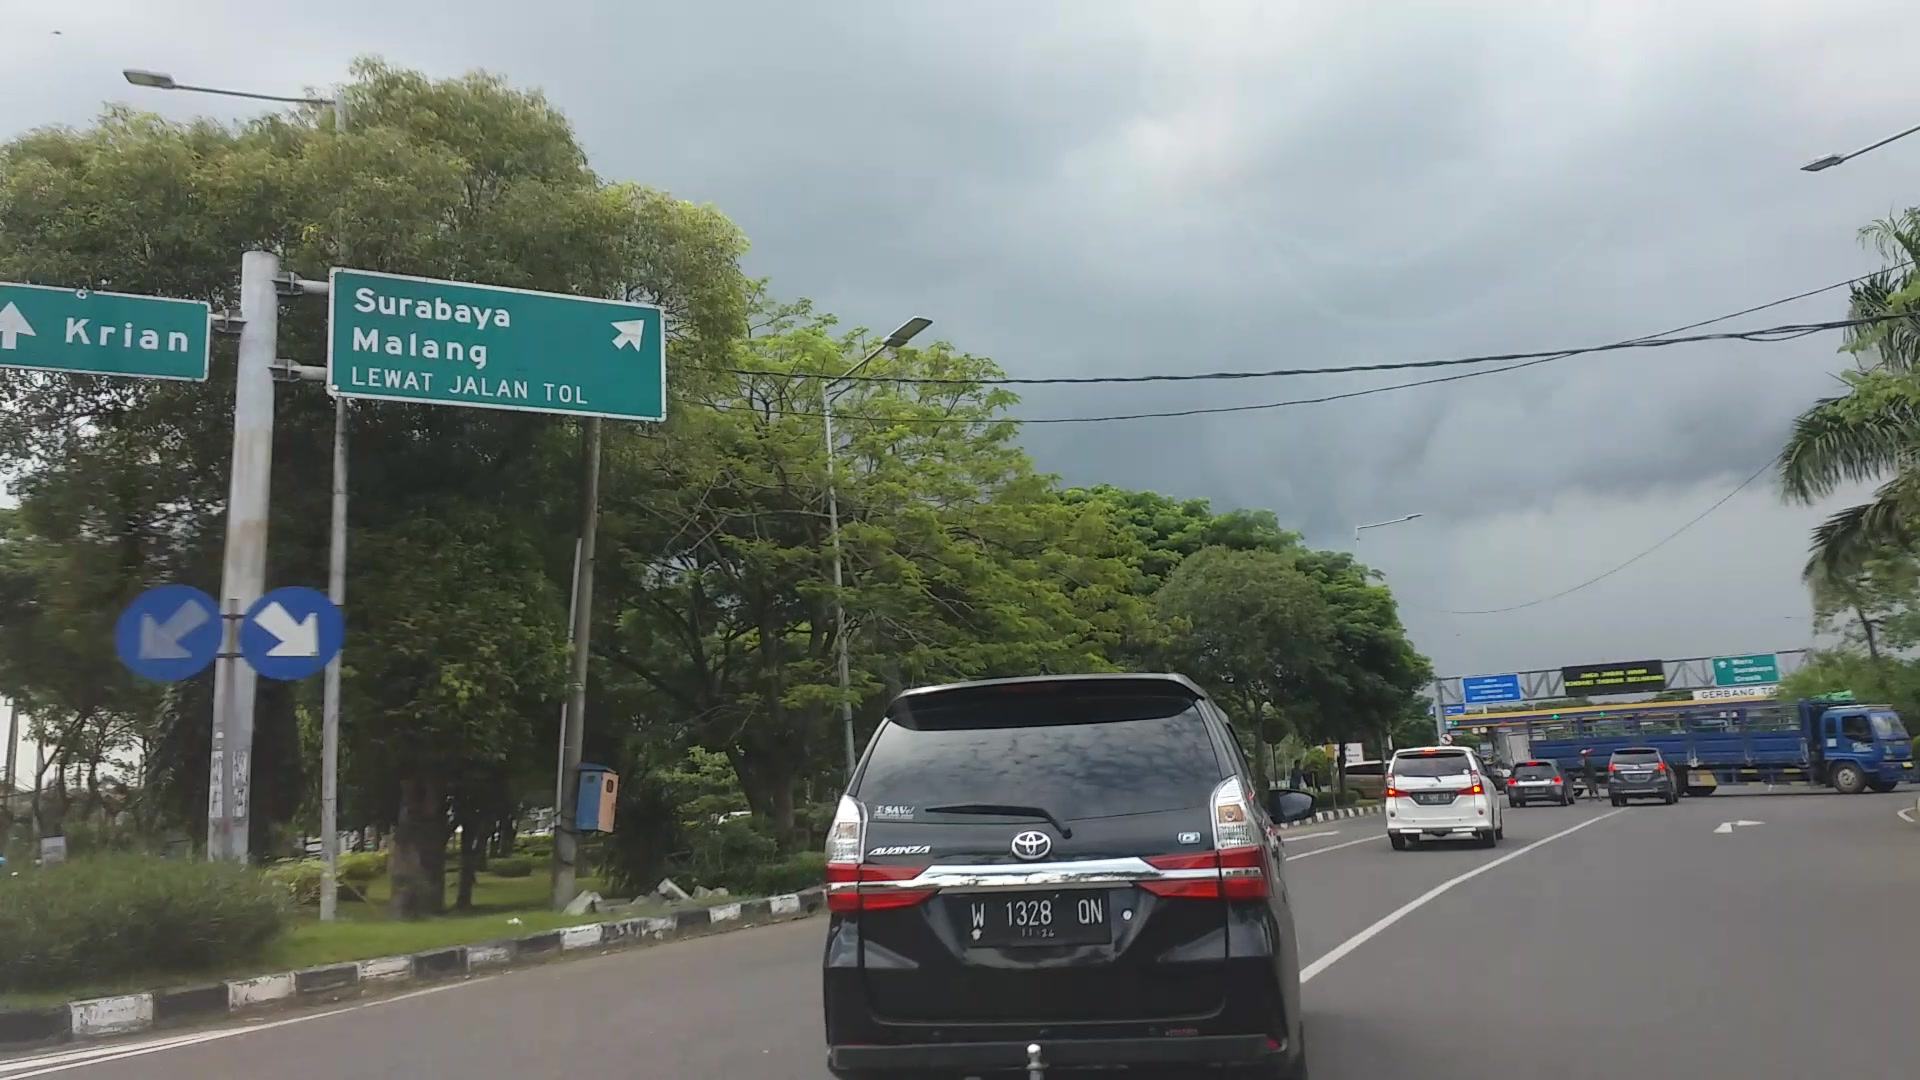plate_positive: (965, 894, 1109, 945)
